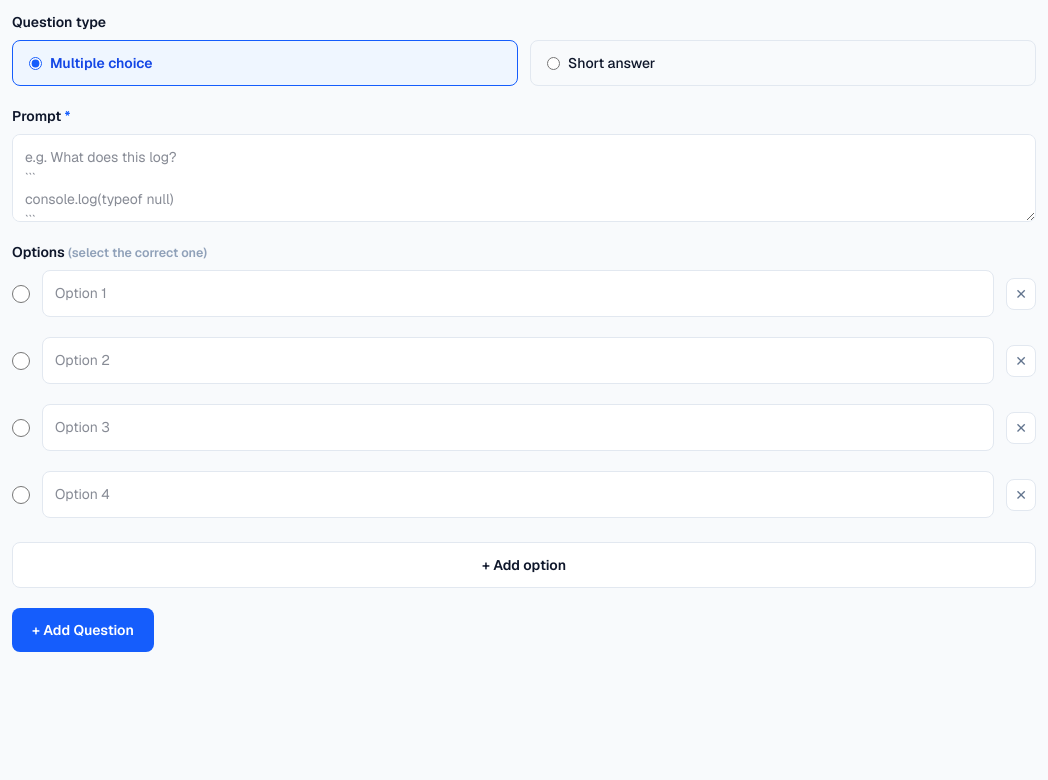
Test case: QuestionForm › hides the add option button when 6 options exist
This screenshot has width=1048, height=780.
Click the button "+ Add option": x=524, y=565 [12,542,1036,588]
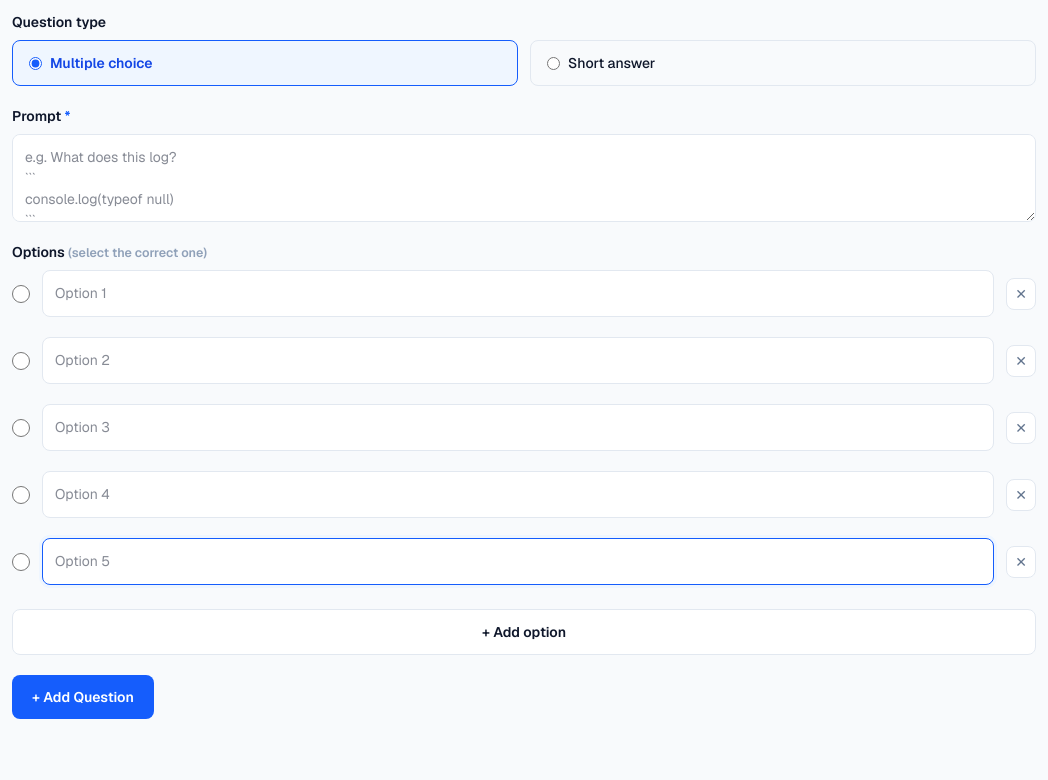
Click the button "+ Add option": x=524, y=632 [12,609,1036,655]
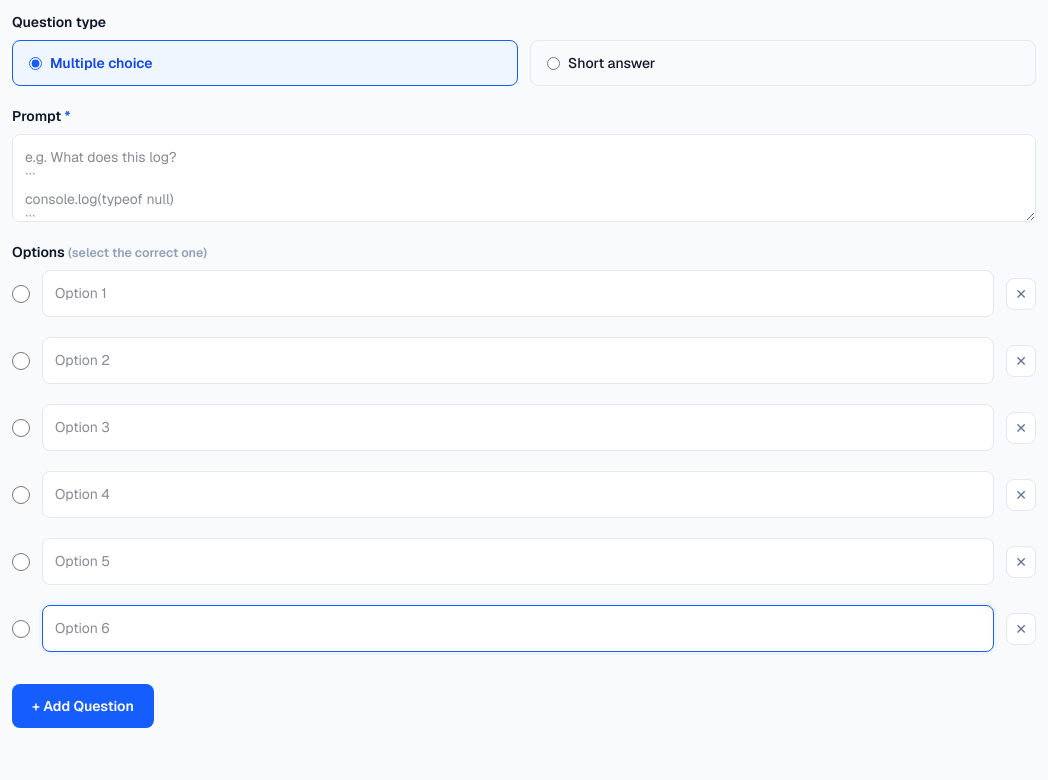
expect the number of fields with placeholder "Option 1" is 6: met, box [42,270,994,317]; [42,337,994,384]; [42,404,994,451]; [42,471,994,518]; [42,538,994,585]; [42,605,994,652]
expect the button "+ Add option" is gone: met
